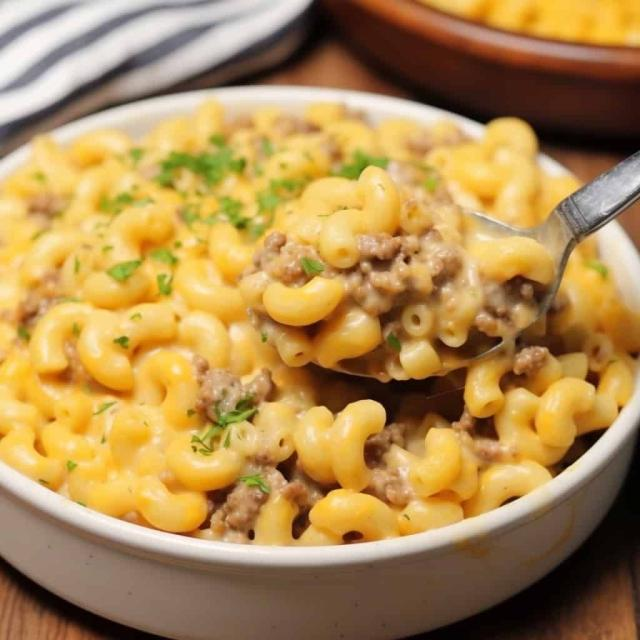pasta: (67, 148, 504, 476)
